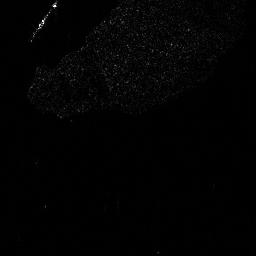ship: (32, 1, 56, 36)
